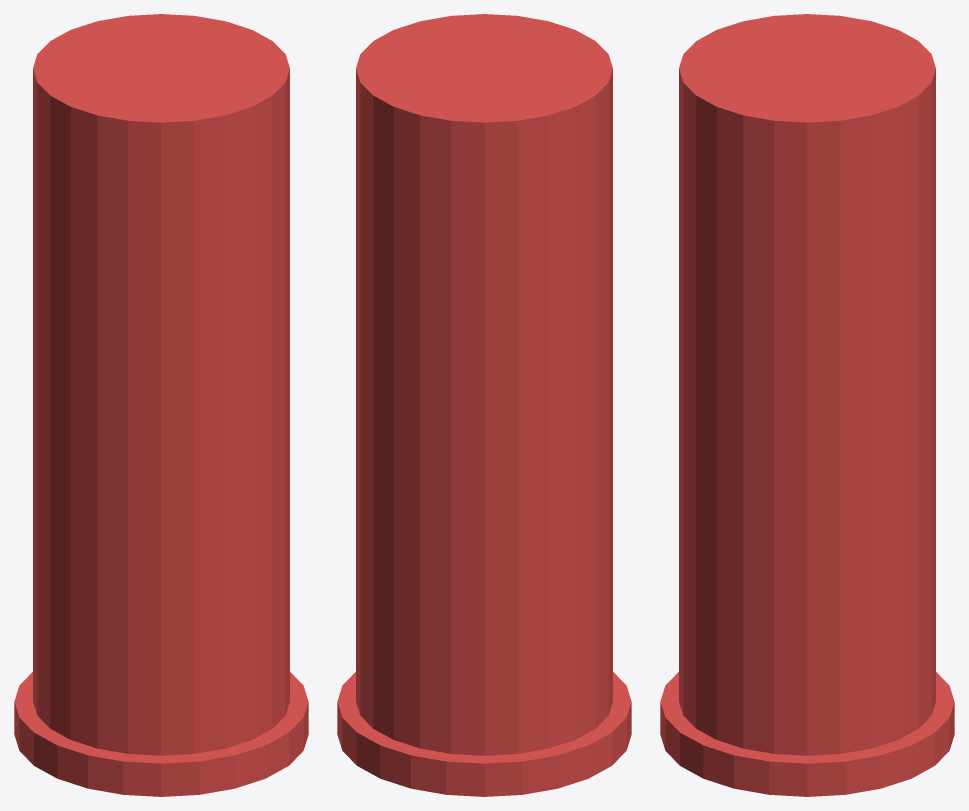
The model's file is ammo_shotgun.glb.
3 views of the same model, side by side, from view 1: azimuth 30°, elevation 25°; view 2: azimuth 150°, elevation 25°; view 3: azimuth 270°, elevation 25° (orthographic).
Parts seen in each view (by area): view 1: Mesh1 Group1 Model; view 2: Mesh1 Group1 Model; view 3: Mesh1 Group1 Model.
Boxes of the visible parts, x1,y1,x2,y2 form: Mesh1 Group1 Model: (14, 14, 308, 796); Mesh1 Group1 Model: (337, 14, 631, 796); Mesh1 Group1 Model: (660, 14, 954, 796).
Bounding box in the file's own units: 0.0048 × 0.012 × 0.0048.
